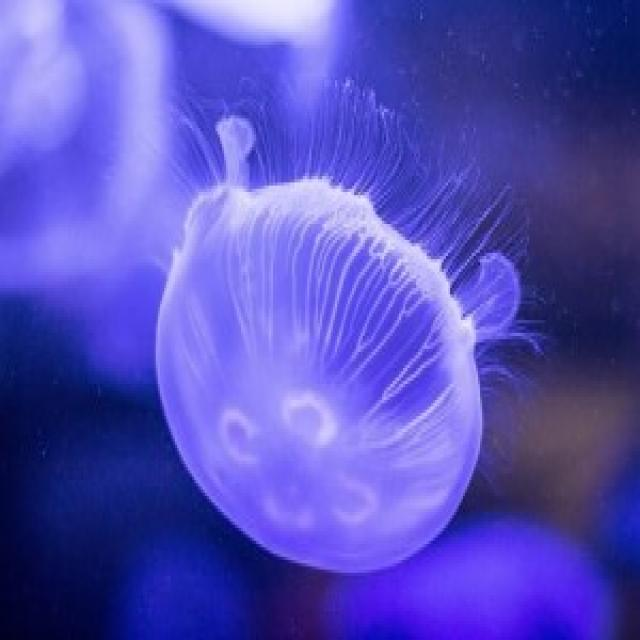Jellyfish: (130, 96, 524, 579)
